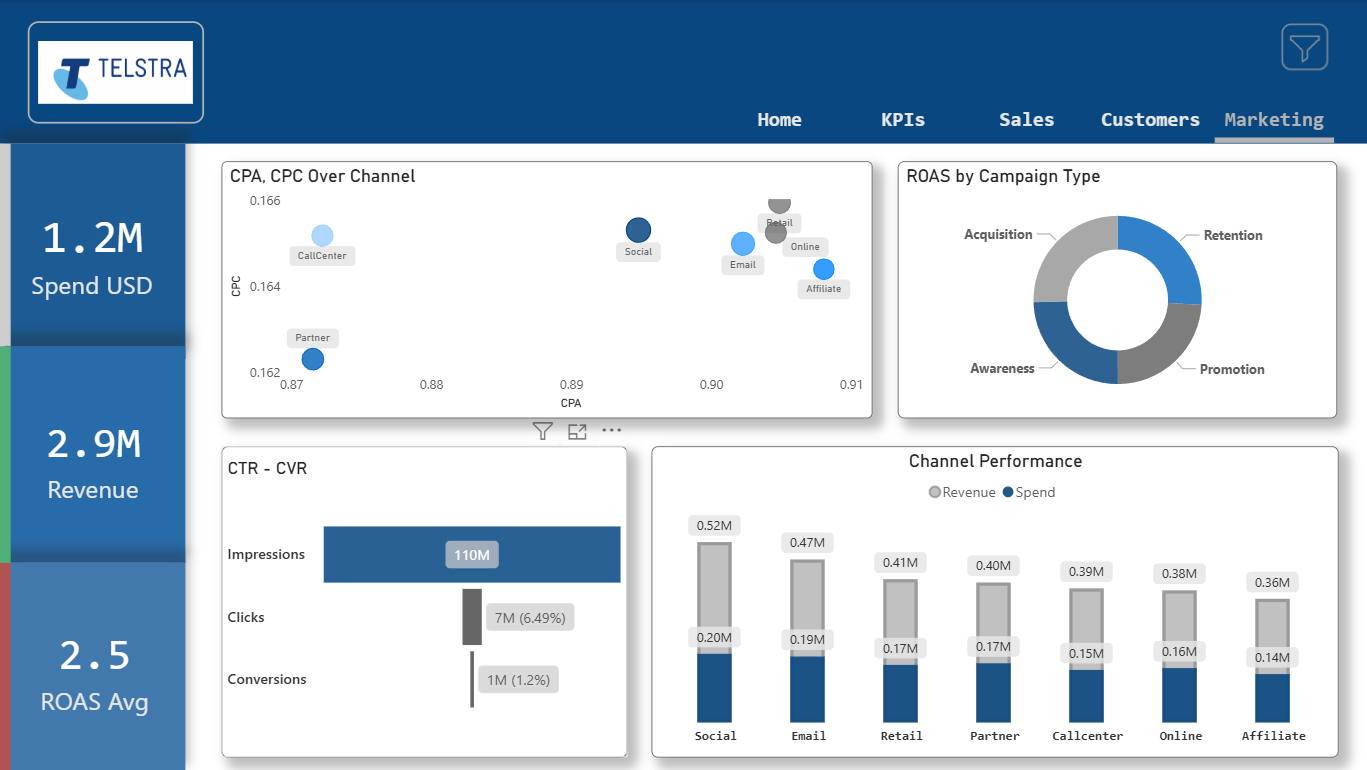

What the dashboard file says about the page in this screenshot:
{"tool":"powerbi","page":{"name":"Marketing","canvas":[1280,720],"ordinal":4},"visuals":[{"type":"group","id":"g1","title":"Group 3","box":[0,0,1282.4,720.2],"z":0,"group":"g4"},{"type":"group","id":"g2","title":"Group 2","box":[0,0,1282.4,720.2],"z":0,"group":"g1"},{"type":"group","id":"g3","title":"Group 1","box":[0,0,1282.4,133.9],"z":0,"group":"g2"},{"type":"shape","box":[0,0,1282.4,133.9],"z":0,"group":"g3"},{"type":"clusteredColumnChart","title":"Channel Performance ","fields":{"Y":["Sum(Fact_Marketing_final.marketing_attributed_revenue)","Sum(Fact_Marketing_final.spend_usd)"],"Category":["Dim_Campaigns_final.channel"]},"box":[606.7,415.2,639,289.4],"z":0},{"type":"image","box":[26.5,19.3,164.1,95.3],"z":1000,"group":"g4"},{"type":"pageNavigator","box":[671.2,84.6,573.3,49],"z":1000,"group":"g3"},{"type":"shape","box":[6,133.9,167.7,200.3],"z":1000,"group":"g2"},{"type":"funnel","title":"CTR - CVR","fields":{"Y":["Sum(Fact_Marketing_final.impressions)","Sum(Fact_Marketing_final.clicks)","Sum(Fact_Marketing_final.conversions)"]},"box":[207.5,415,377.6,289.5],"z":1000},{"type":"donutChart","title":"ROAS by Campaign Type","fields":{"Category":["Dim_Campaigns_final.campaign_type"],"Y":["Meaasurments.ROAS"]},"box":[836.1,149.6,409,238.9],"z":2000},{"type":"shape","box":[6,322.1,167.7,201.5],"z":2000,"group":"g2"},{"type":"scatterChart","title":"CPA, CPC Over Channel","fields":{"X":["Meaasurments.CPA"],"Y":["Meaasurments.CPC"],"Series":["Fact_Marketing_final.channel"],"Size":["Sum(Fact_Marketing_final.marketing_attributed_revenue)"]},"box":[207.5,149.6,605.6,238.9],"z":3000},{"type":"shape","box":[7.2,523.6,166.5,196.6],"z":3000,"group":"g2"},{"type":"shape","box":[0,133.9,10.9,188.2],"z":4000,"group":"g2"},{"type":"shape","box":[0,523.6,10.9,196.6],"z":4000},{"type":"group","id":"g4","title":"Group 4","box":[0,0,1282.4,720.2],"z":5000},{"type":"shape","box":[0,523.4,10.9,196.6],"z":5000,"group":"g2"},{"type":"shape","box":[0,322.1,10.9,201.5],"z":6000,"group":"g2"},{"type":"actionButton","box":[1183.7,19.8,61.6,47.7],"z":7000},{"type":"card","fields":{"Values":["Meaasurments.ROAS"]},"box":[15.7,536.9,148.4,167.7],"z":8000},{"type":"card","fields":{"Values":["Sum(Fact_Marketing_final.spend_usd)"]},"box":[0,149.2,173.7,168.1],"z":9000},{"type":"card","fields":{"Values":["Sum(Fact_Marketing_final.marketing_attributed_revenue)"]},"box":[5.6,334,163.6,181.4],"z":10000}]}

Visuals, with their boxes in screenshot pixels (x1, y1, x2, y2), scaled from the page's 1280x720 canvas onto the 1367x770 screenshot:
"Group 3" group: region(0, 0, 1366, 769)
"Group 2" group: region(0, 0, 1366, 769)
"Group 1" group: region(0, 0, 1366, 143)
shape: region(0, 0, 1366, 143)
"Channel Performance " clusteredColumnChart: region(648, 444, 1330, 754)
image: region(28, 21, 204, 123)
pageNavigator: region(717, 90, 1329, 143)
shape: region(6, 143, 186, 357)
"CTR - CVR" funnel: region(222, 444, 625, 753)
"ROAS by Campaign Type" donutChart: region(893, 160, 1330, 415)
shape: region(6, 344, 186, 560)
"CPA, CPC Over Channel" scatterChart: region(222, 160, 868, 415)
shape: region(8, 560, 186, 769)
shape: region(0, 143, 12, 344)
shape: region(0, 560, 12, 769)
"Group 4" group: region(0, 0, 1366, 769)
shape: region(0, 560, 12, 769)
shape: region(0, 344, 12, 560)
actionButton: region(1264, 21, 1330, 72)
card - Meaasurments.ROAS: region(17, 574, 175, 754)
card - Sum(Fact_Marketing_final.spend_usd): region(0, 160, 186, 339)
card - Sum(Fact_Marketing_final.marketing_attributed_revenue): region(6, 357, 181, 551)
